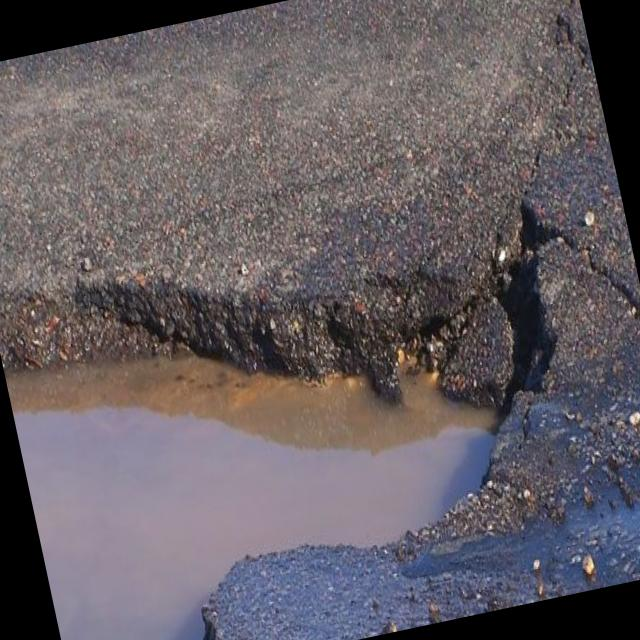Potholes: (0, 202, 635, 640)
